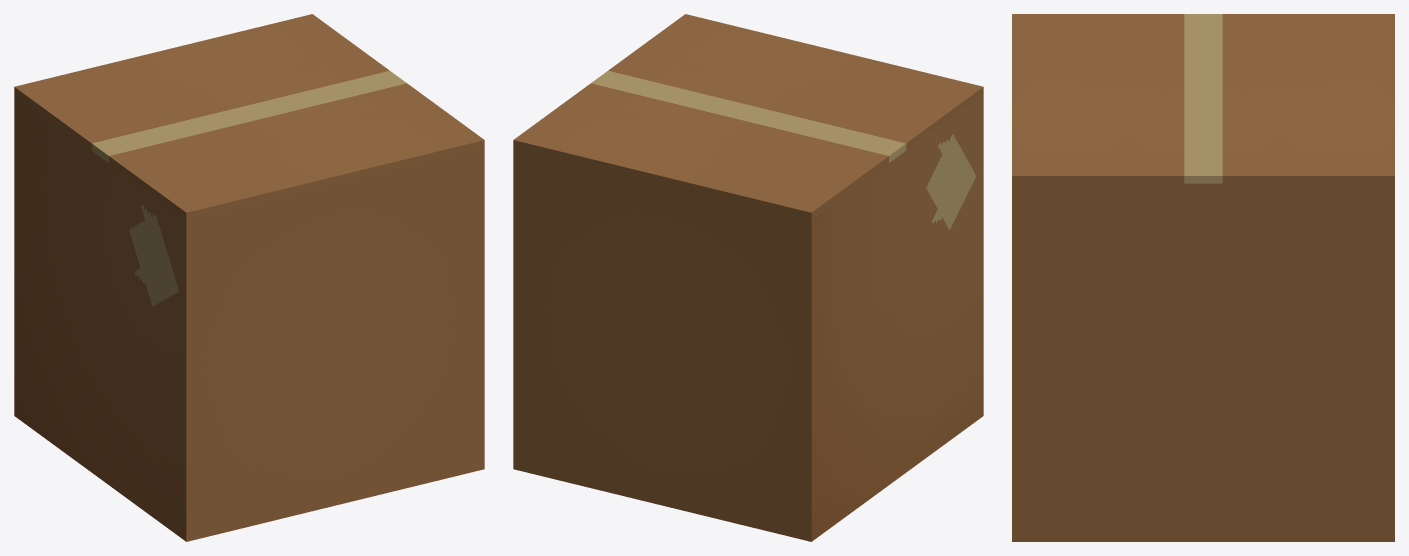
Rendered from BoxClosed.fbx.
3 views of the same model, side by side, from view 1: azimuth 30°, elevation 25°; view 2: azimuth 150°, elevation 25°; view 3: azimuth 270°, elevation 25° (orthographic). The views are drawn at different scales.
Parts seen in each view (by area): view 1: BoxClosed; view 2: BoxClosed; view 3: BoxClosed.
Part boxes in pixels (<box>): BoxClosed: <box>14,14,484,541</box>; BoxClosed: <box>513,14,983,541</box>; BoxClosed: <box>1012,14,1394,541</box>.
Bounding box in the file's own units: 52.41 × 55.3 × 52.41.
Materials: 1 (1 with a texture image).
